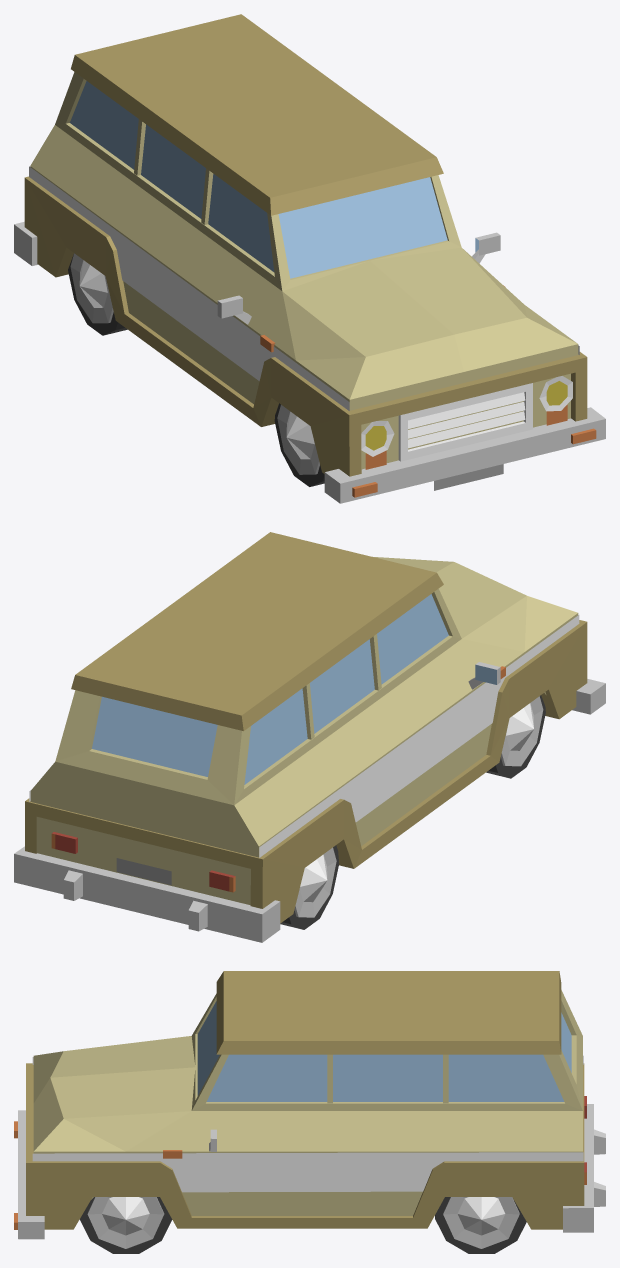
The model's file is transport_cool_008.fbx.
The picture shows the model from 3 angles, top to bottom: view 1: azimuth 30°, elevation 25°; view 2: azimuth 150°, elevation 25°; view 3: azimuth 270°, elevation 25°; orthographic projection. The views are drawn at different scales.
Visible parts, largest first — view 1: transport_cool_008; view 2: transport_cool_008; view 3: transport_cool_008.
Boxes of the visible parts, left/top/right/bottom form: transport_cool_008: left=14, top=14, right=605, bottom=503; transport_cool_008: left=14, top=532, right=605, bottom=942; transport_cool_008: left=14, top=971, right=605, bottom=1253.
Bounding box in the file's own units: 179 × 144 × 381.
